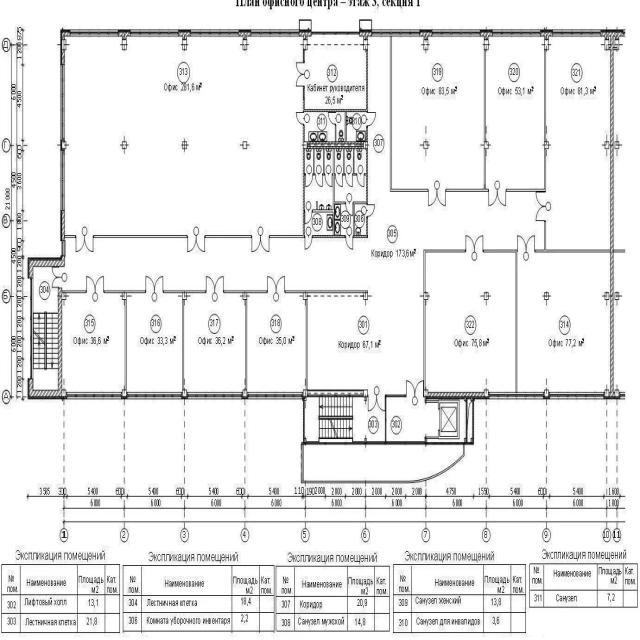Bathrooms: (305, 175, 333, 209), (305, 112, 335, 141), (335, 174, 366, 202), (305, 213, 333, 235), (335, 205, 353, 235), (347, 112, 366, 140), (355, 205, 366, 234), (355, 150, 366, 174), (337, 112, 345, 141), (305, 150, 313, 174), (315, 150, 323, 174), (325, 150, 333, 174), (335, 150, 343, 174), (344, 150, 352, 174)
Corridors: (63, 37, 544, 394), (304, 445, 462, 479), (387, 398, 438, 441)
Doors: (75, 225, 94, 256), (205, 274, 225, 303), (488, 179, 507, 209), (187, 225, 206, 254), (86, 273, 105, 302), (428, 179, 447, 208), (516, 232, 535, 261), (465, 232, 484, 261), (251, 226, 270, 254), (145, 274, 164, 302), (267, 274, 286, 302), (405, 379, 424, 406), (534, 192, 551, 222), (367, 385, 385, 413), (295, 61, 310, 88), (51, 266, 68, 288), (366, 111, 377, 127), (304, 235, 313, 252), (366, 204, 376, 219), (356, 172, 365, 188), (345, 235, 354, 251), (304, 209, 313, 225), (345, 201, 354, 217), (295, 111, 305, 125), (327, 112, 337, 125), (305, 173, 313, 188), (315, 173, 323, 188), (345, 173, 353, 188), (324, 174, 332, 188), (335, 174, 343, 188), (438, 410, 439, 429)
LBwalls: (303, 51, 368, 112), (27, 287, 62, 400), (611, 36, 614, 399), (27, 254, 65, 279), (308, 389, 363, 398), (307, 141, 363, 149), (299, 19, 312, 51), (359, 19, 372, 51), (424, 392, 489, 398), (60, 29, 70, 65), (353, 217, 368, 238), (480, 28, 493, 51), (419, 29, 432, 51), (540, 29, 553, 51), (239, 29, 251, 51), (179, 29, 191, 51), (119, 29, 131, 51), (601, 29, 624, 40), (303, 150, 305, 235), (60, 211, 65, 241), (366, 150, 368, 203), (313, 235, 345, 238), (615, 39, 620, 52), (604, 39, 609, 52), (423, 292, 429, 301), (604, 292, 610, 301), (302, 389, 308, 398), (60, 141, 66, 150), (363, 390, 369, 398), (484, 292, 489, 301), (544, 292, 549, 301), (614, 292, 619, 301), (423, 389, 428, 398), (484, 389, 489, 398), (544, 390, 549, 399), (605, 390, 610, 399), (614, 389, 619, 398), (614, 141, 619, 150), (604, 141, 609, 150), (544, 141, 549, 150), (302, 292, 307, 301), (243, 141, 248, 150), (182, 141, 187, 150), (122, 141, 127, 150), (364, 141, 369, 150), (302, 141, 307, 150), (121, 293, 127, 300), (182, 293, 188, 300), (483, 141, 488, 149), (423, 141, 428, 149), (363, 292, 368, 300), (182, 390, 187, 398), (620, 392, 625, 400), (243, 293, 248, 300), (303, 125, 305, 142), (62, 292, 66, 300), (62, 389, 66, 397), (122, 390, 126, 397), (243, 390, 247, 397)
Offices: (66, 37, 304, 235), (392, 37, 483, 188), (547, 37, 610, 249), (517, 253, 610, 391), (426, 254, 515, 391), (487, 37, 544, 188), (62, 294, 124, 391), (185, 294, 245, 391), (247, 294, 305, 391), (127, 294, 182, 391), (305, 35, 366, 108)
Stairs: (303, 445, 465, 483), (305, 398, 385, 441), (34, 268, 58, 388), (301, 443, 303, 483)
Walls: (303, 394, 474, 447), (390, 37, 429, 192), (483, 249, 517, 392), (312, 149, 345, 235), (535, 221, 610, 253), (423, 249, 466, 292), (446, 150, 489, 192), (506, 149, 546, 192), (438, 400, 460, 439), (353, 201, 366, 235), (93, 235, 187, 238), (423, 300, 426, 389), (285, 290, 368, 293), (306, 299, 308, 390), (484, 50, 486, 141), (182, 300, 184, 390), (204, 235, 252, 238), (163, 290, 207, 293), (104, 290, 145, 293), (353, 149, 357, 176), (269, 235, 304, 238), (125, 299, 126, 390), (246, 299, 247, 390), (544, 51, 545, 141), (224, 291, 268, 293), (345, 112, 347, 141), (313, 150, 315, 177), (62, 291, 87, 293), (614, 249, 625, 253), (424, 436, 438, 439), (425, 400, 438, 403), (65, 235, 76, 238), (335, 125, 337, 140), (323, 149, 324, 175), (343, 150, 344, 175), (303, 51, 305, 63), (364, 173, 366, 176)
Windows: (550, 391, 604, 400), (127, 392, 182, 400), (66, 392, 121, 400), (489, 392, 544, 400), (248, 392, 302, 400), (30, 279, 34, 378), (187, 392, 242, 399), (553, 29, 601, 37), (492, 29, 540, 37), (432, 29, 480, 37), (372, 29, 420, 37), (251, 29, 299, 37), (191, 29, 239, 37), (70, 29, 118, 37), (60, 65, 65, 141), (131, 29, 178, 36), (60, 151, 65, 210), (312, 32, 360, 35), (61, 241, 65, 256)
